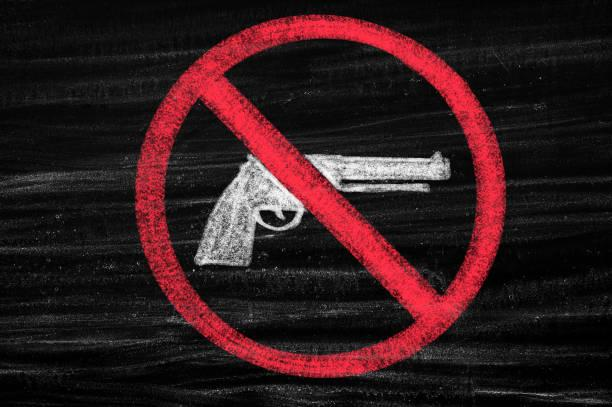weapon: (198, 138, 446, 268)
